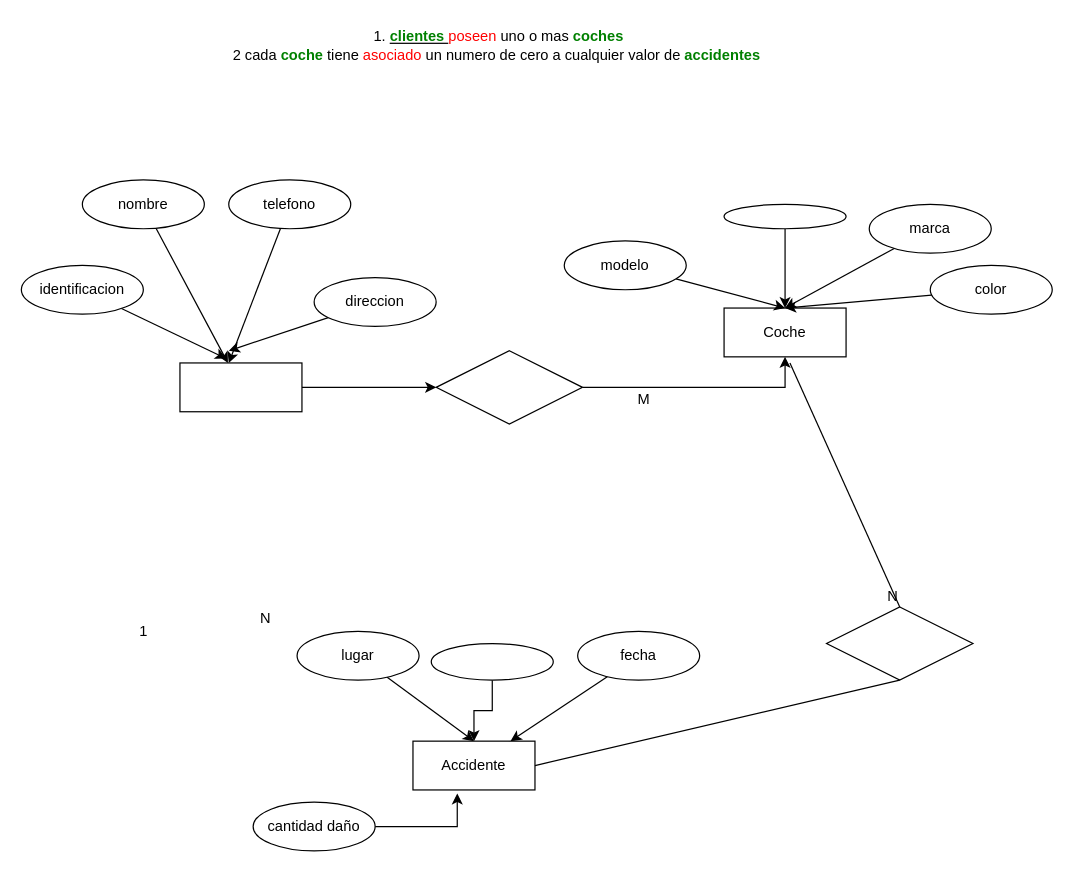
Some shapes in this 1074 by 872 pixel diagram are drawn without their labels. Each missing label, with the centre of its shape:
"Cliente" belongs at (x=240, y=387).
"licencia" belongs at (x=784, y=216).
"numero reporte" belongs at (x=491, y=661).
"participar" belongs at (x=899, y=643).
"poseer" belongs at (x=509, y=387).
